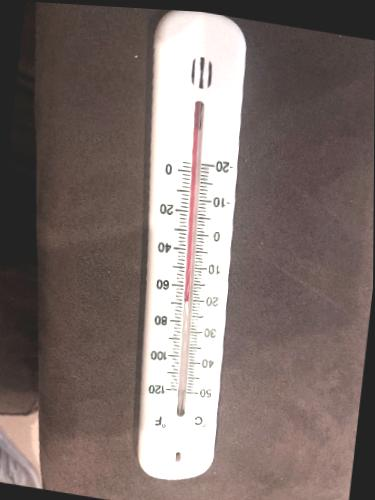thermo: (133, 24, 245, 476)
